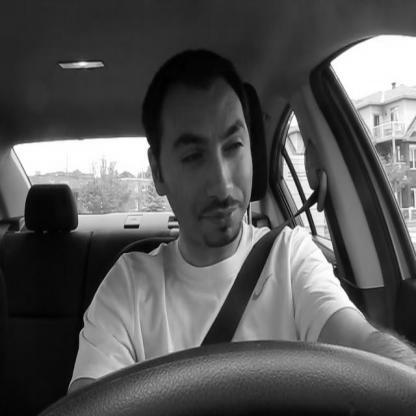seatbelt: (129, 47, 334, 351)
